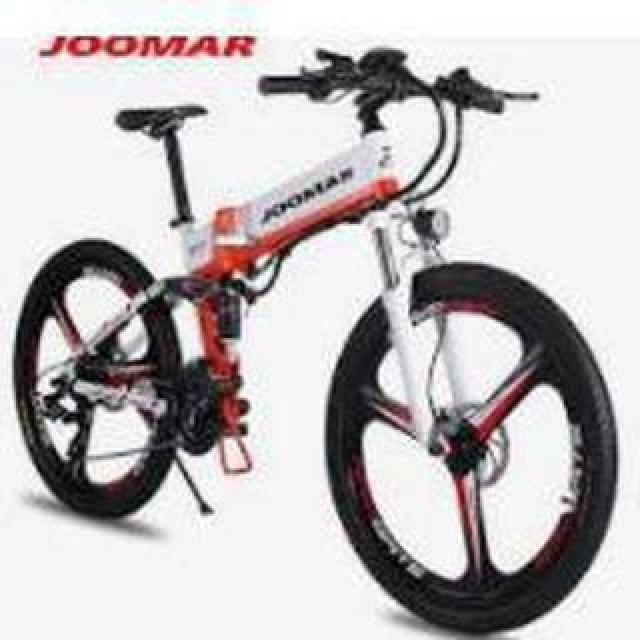Person: (6, 44, 620, 638)
